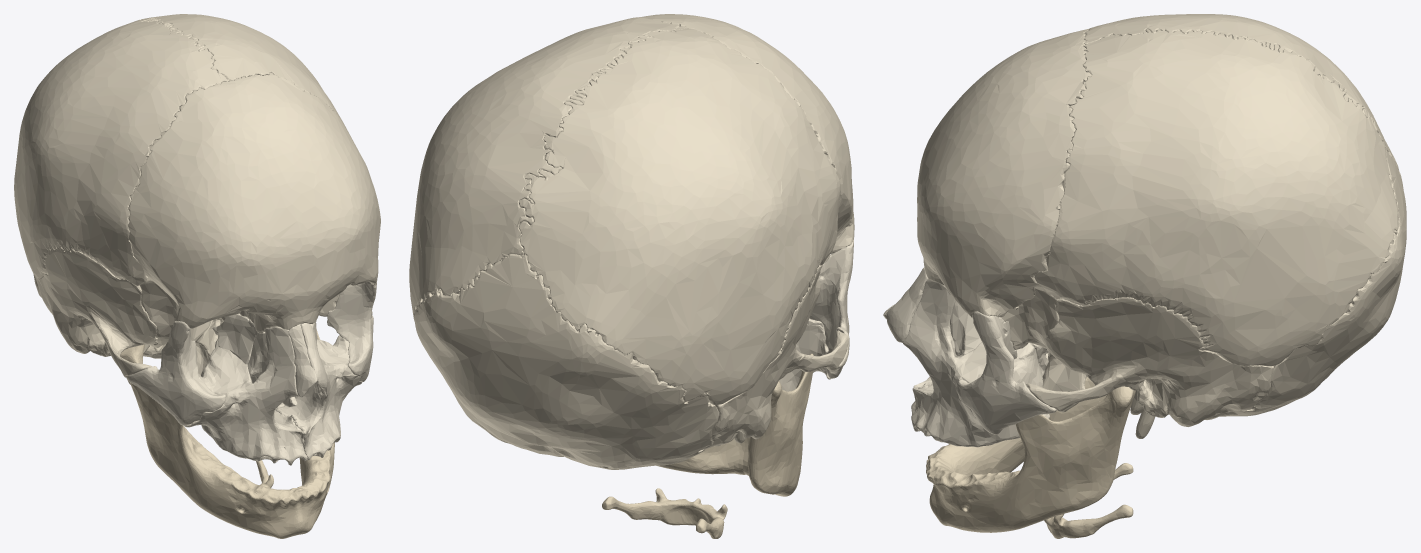
The picture shows the model from 3 angles, left to right: view 1: azimuth 30°, elevation 25°; view 2: azimuth 150°, elevation 25°; view 3: azimuth 270°, elevation 25°; orthographic projection. The views are drawn at different scales.
Visible parts, largest first — view 1: frontal_bone, parietal_right, mandible, maxilla_right, temporal_right, parietal_left, zygomatic_right, maxilla_left, zygomatic_left, sphenoid_bone, ethmoid_bone, nasal_right (+2 smaller); view 2: parietal_right, occipital_bone, parietal_left, frontal_bone, mandible, temporal_right, zygomatic_right, hyoid_bone, maxilla_right; view 3: parietal_left, frontal_bone, temporal_left, mandible, maxilla_left, occipital_bone, parietal_right, zygomatic_left, sphenoid_bone, hyoid_bone, nasal_left, lacrimal_left.
Boxes of the visible parts, x1,y1,x2,y2 form: frontal_bone: (128, 73, 380, 333); parietal_right: (14, 18, 229, 285); mandible: (120, 328, 334, 538); maxilla_right: (184, 326, 307, 465); temporal_right: (33, 247, 157, 384); parietal_left: (141, 14, 357, 148); zygomatic_right: (126, 321, 225, 425); maxilla_left: (275, 321, 361, 459); zygomatic_left: (327, 279, 377, 382); sphenoid_bone: (139, 277, 339, 375); ethmoid_bone: (212, 313, 265, 364); nasal_right: (288, 324, 317, 397); parietal_right: (519, 26, 840, 405); occipital_bone: (413, 254, 718, 469); parietal_left: (409, 17, 679, 321); frontal_bone: (641, 14, 854, 253); mandible: (656, 353, 813, 496); temporal_right: (701, 263, 848, 450); zygomatic_right: (809, 239, 853, 378); hyoid_bone: (602, 488, 727, 538); maxilla_right: (779, 318, 830, 391); parietal_left: (1034, 29, 1399, 366); frontal_bone: (917, 29, 1091, 317); temporal_left: (1026, 297, 1273, 438); mandible: (926, 377, 1135, 532); maxilla_left: (903, 279, 1042, 447); occipital_bone: (1219, 148, 1406, 416); parietal_right: (1084, 14, 1398, 169); zygomatic_left: (957, 311, 1056, 434); sphenoid_bone: (998, 288, 1086, 412); hyoid_bone: (1044, 463, 1133, 538); nasal_left: (886, 267, 928, 342); lacrimal_left: (950, 300, 981, 355).
Bounding box in the file's own units: 144 × 207 × 197.
